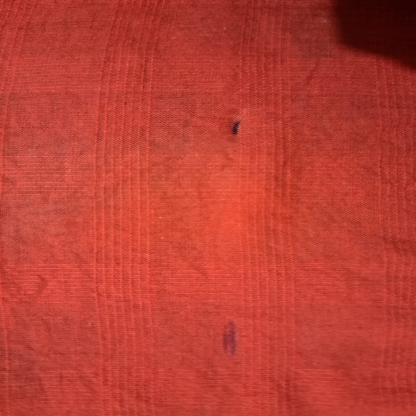spot: (214, 314, 245, 360), (220, 114, 263, 139)
